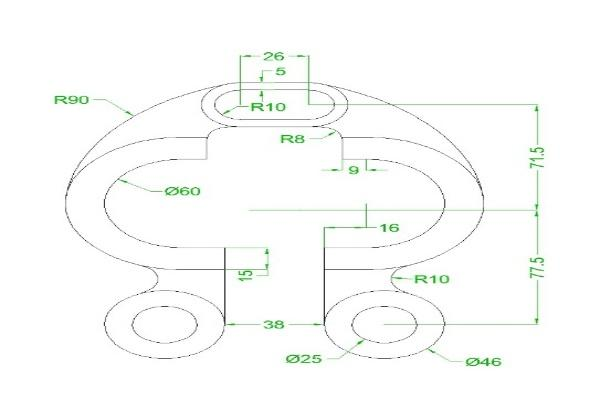dimensions: (276, 349, 326, 369), (409, 272, 458, 291), (521, 142, 552, 172), (45, 90, 94, 108), (522, 254, 552, 282), (162, 182, 206, 200), (248, 97, 289, 116), (463, 354, 508, 371), (273, 129, 310, 148), (259, 44, 290, 64), (375, 218, 404, 239), (268, 62, 292, 79), (262, 318, 286, 334), (344, 159, 363, 178), (234, 269, 254, 284)
